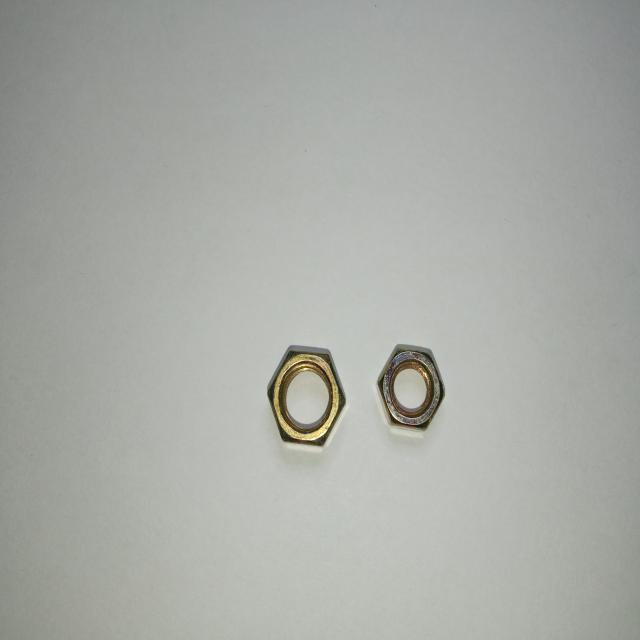m10: (266, 348, 350, 448)
m8: (380, 346, 444, 430)
